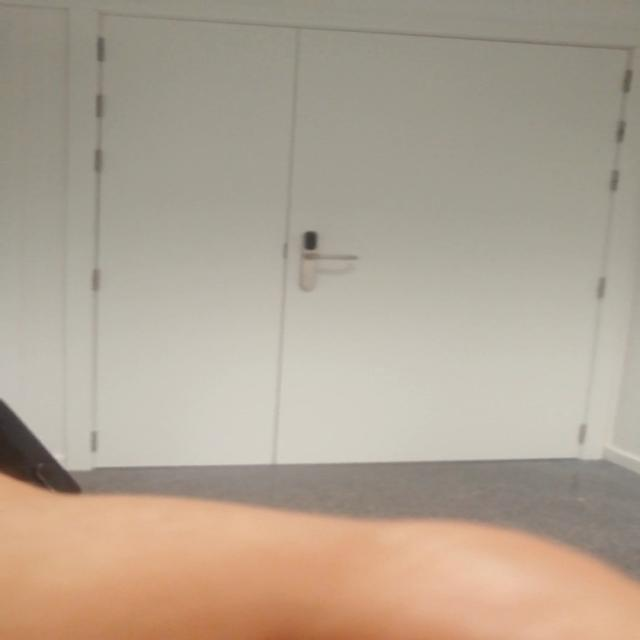door_handle: (301, 250, 362, 265)
